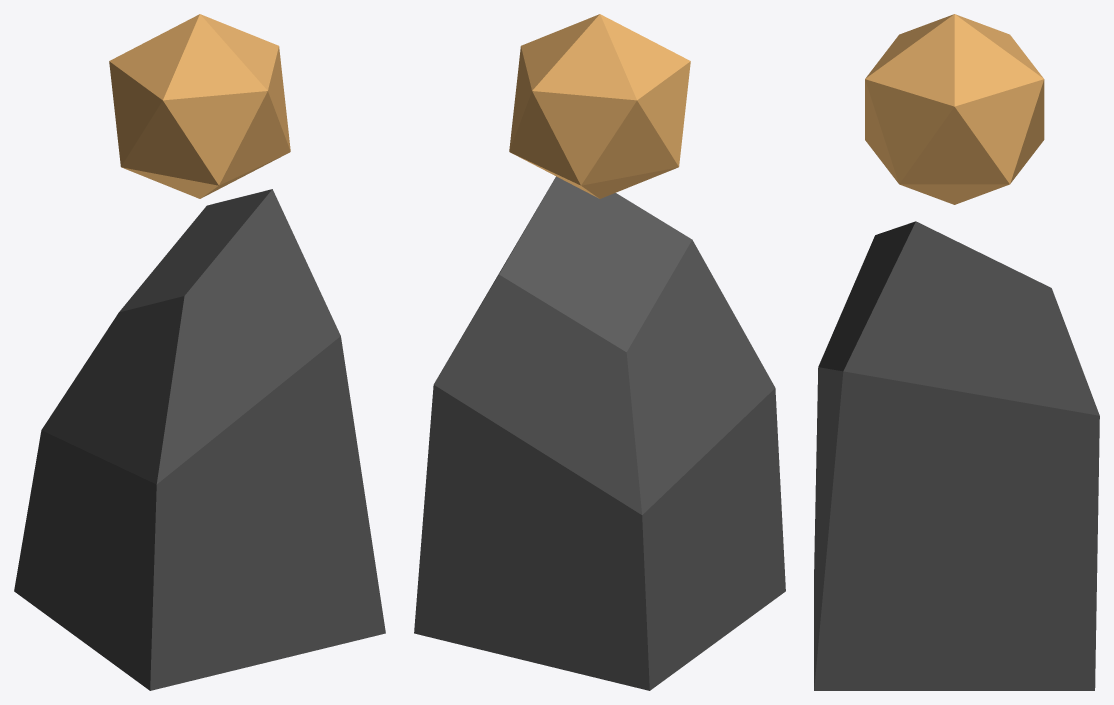
The model's file is other light.fbx.
The picture shows the model from 3 angles, left to right: view 1: azimuth 30°, elevation 25°; view 2: azimuth 150°, elevation 25°; view 3: azimuth 270°, elevation 25°; orthographic projection. The views are drawn at different scales.
Parts seen in each view (by area): view 1: Cube.002; view 2: Cube.002; view 3: Cube.002.
Part boxes in pixels (bbox=[...]): Cube.002: bbox=[14, 14, 385, 690]; Cube.002: bbox=[414, 14, 785, 690]; Cube.002: bbox=[814, 14, 1099, 690].
Size of the model in its own units: 100 by 243 by 102.
